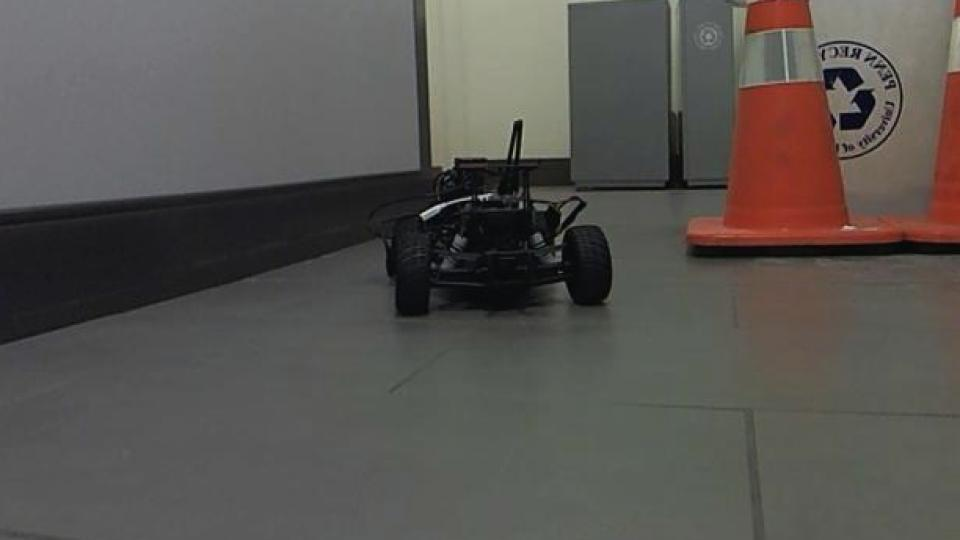car: (364, 118, 615, 318)
